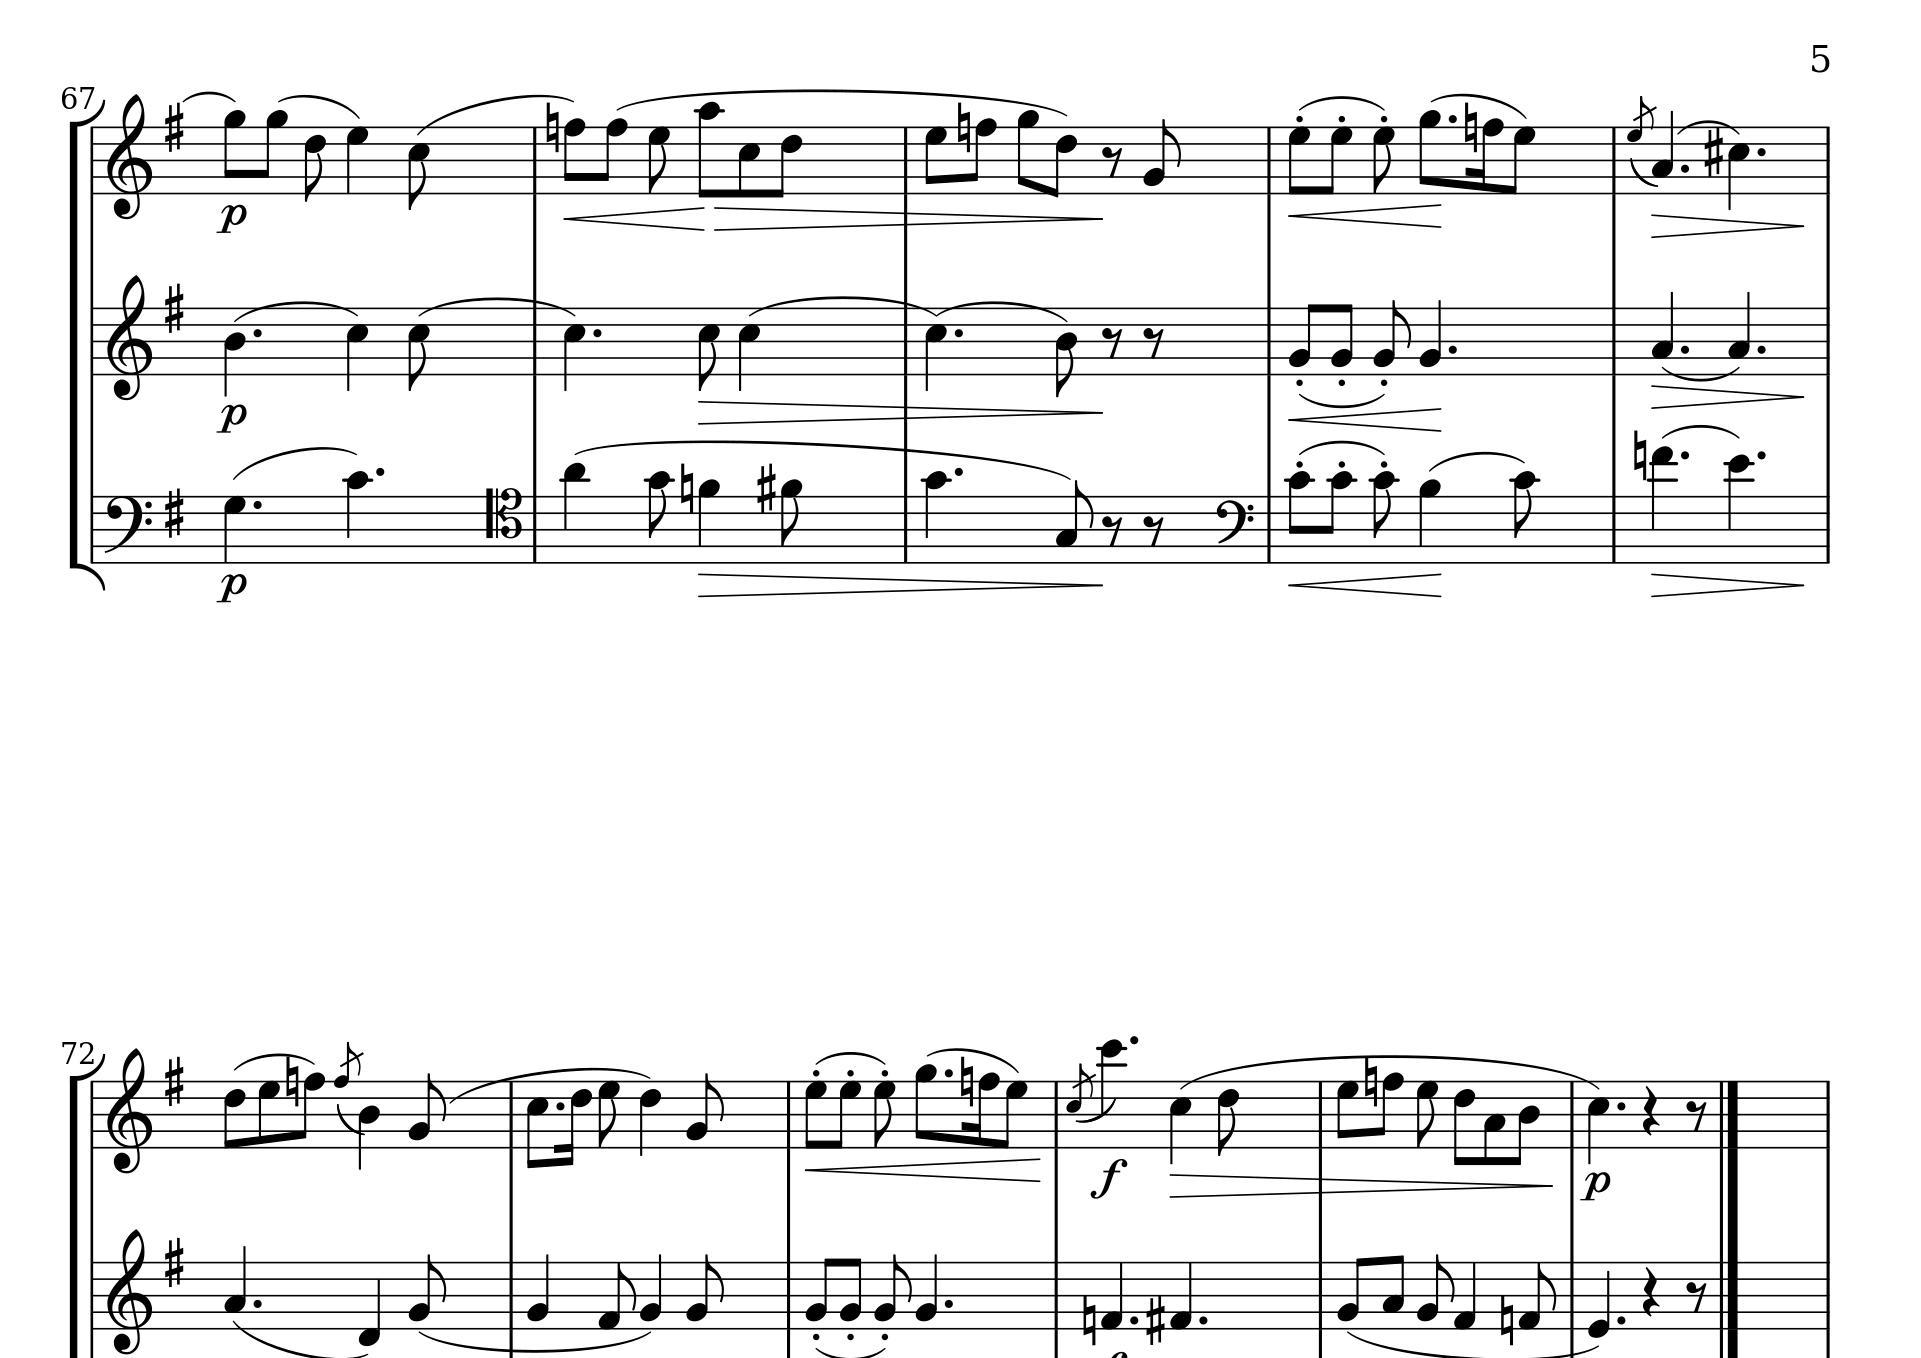16_6: (557, 1077, 592, 1167)
16_8: (963, 1068, 999, 1149), (1468, 118, 1504, 195)
2: (76, 1039, 96, 1064)
4_-1: (356, 1260, 384, 1349)
4_0: (1587, 1260, 1614, 1340)
4_1: (1101, 1260, 1126, 1332), (1168, 1260, 1193, 1332), (1454, 1260, 1479, 1332)
4_10: (922, 469, 951, 566), (342, 469, 370, 564)
4_11: (560, 460, 588, 564)
4_12: (1724, 453, 1755, 566)
4_13: (1648, 445, 1677, 567)
4_2: (525, 1252, 553, 1332), (639, 1251, 664, 1332), (916, 1251, 941, 1332), (1418, 297, 1443, 376)
4_3: (222, 1243, 248, 1332), (1726, 290, 1752, 376), (1651, 290, 1676, 378), (1652, 112, 1676, 195)
4_4: (222, 306, 247, 398), (357, 1080, 381, 1171)
4_5: (922, 306, 949, 392), (1726, 123, 1751, 212), (736, 306, 761, 394), (344, 306, 369, 392), (561, 306, 586, 392), (1586, 1079, 1611, 1165), (1168, 1077, 1192, 1165)
4_6: (638, 1077, 661, 1157)
4_7: (220, 494, 248, 564), (345, 125, 369, 195)
4_9: (697, 478, 722, 564), (1417, 478, 1442, 564)
5: (1809, 40, 1831, 73)
6: (60, 82, 78, 112)
7: (79, 82, 96, 110), (62, 1038, 76, 1064)
8_1: (1518, 1260, 1558, 1332), (597, 1260, 636, 1330)
8_10: (1321, 470, 1357, 564), (1368, 470, 1399, 564), (1285, 470, 1314, 564), (697, 100, 725, 198), (1511, 470, 1539, 564), (647, 469, 673, 564)
8_12: (1098, 1038, 1124, 1151)
8_2: (685, 1252, 725, 1332), (872, 1252, 911, 1332), (1142, 118, 1182, 195), (685, 1071, 725, 1149), (407, 1252, 447, 1329), (1371, 298, 1410, 376), (407, 1071, 445, 1149), (1415, 1252, 1454, 1330), (1336, 1255, 1367, 1332), (1288, 301, 1318, 375), (802, 1257, 833, 1330), (1329, 301, 1354, 376), (838, 1257, 863, 1332)
8_3: (1054, 478, 1094, 564), (1482, 1079, 1507, 1165), (1382, 1254, 1405, 1332)
8_4: (1511, 1079, 1542, 1165), (1054, 306, 1077, 398)
8_5: (525, 1079, 550, 1168), (406, 125, 431, 212), (406, 306, 431, 392), (697, 306, 722, 392), (736, 123, 761, 198)
8_6: (773, 123, 802, 198), (1452, 1079, 1477, 1167), (1048, 125, 1077, 198), (1216, 1079, 1240, 1158), (301, 125, 326, 201), (222, 1077, 247, 1152)
8_7: (1321, 125, 1354, 195), (830, 1079, 861, 1149), (998, 1077, 1027, 1149), (1507, 123, 1534, 195), (923, 123, 949, 195), (647, 123, 672, 195), (256, 1077, 281, 1149), (1335, 1077, 1360, 1149), (802, 1079, 827, 1149), (872, 1079, 897, 1149), (1288, 123, 1311, 195), (1371, 123, 1395, 195), (1415, 1079, 1439, 1149), (597, 1079, 620, 1148)
8_8: (1373, 1071, 1405, 1149), (597, 116, 628, 195), (294, 1070, 325, 1149), (967, 118, 997, 195), (561, 116, 586, 197)
8_9: (254, 109, 288, 195), (220, 107, 247, 195), (778, 478, 804, 564), (913, 1063, 939, 1149), (1417, 107, 1442, 197), (1016, 107, 1041, 195)
Acciaccature: (334, 1041, 363, 1145), (1627, 96, 1655, 194), (1069, 1061, 1094, 1146)
Bracke: (68, 100, 106, 586)
Crescendo_hairpin: (802, 1157, 1041, 1182), (564, 207, 704, 231)
Diminuendo_hairpin: (711, 206, 1105, 234), (700, 398, 1105, 423), (1168, 1171, 1551, 1198), (697, 573, 1105, 597)
Fclef: (101, 492, 154, 564), (1214, 495, 1254, 564)
Final_barline: (1712, 1079, 1742, 1148), (1712, 1260, 1742, 1329)
Gclef: (104, 93, 154, 220), (104, 1226, 154, 1354), (104, 273, 154, 400), (104, 1046, 153, 1174)
Natural: (1079, 1293, 1098, 1346), (678, 460, 695, 516), (957, 1052, 974, 1108), (954, 100, 972, 153), (1461, 100, 1479, 153), (1498, 1293, 1515, 1345), (544, 100, 560, 154), (1631, 428, 1648, 482), (284, 1054, 300, 1108), (1362, 1055, 1379, 1107)
Rests4: (1639, 1265, 1661, 1318), (1640, 1085, 1661, 1139)
Rests8: (1684, 1279, 1709, 1315), (1141, 323, 1166, 359), (1101, 143, 1124, 179), (1101, 323, 1124, 360), (1684, 1098, 1708, 1133), (1101, 513, 1124, 547), (1142, 513, 1166, 547)
Sharp: (162, 281, 187, 335), (162, 486, 187, 541), (162, 1235, 187, 1289), (162, 1055, 187, 1108), (1701, 125, 1724, 179), (163, 100, 187, 153), (754, 461, 776, 514), (1143, 1293, 1166, 1346)
Single_barline: (503, 1261, 520, 1342), (1260, 306, 1279, 375), (1817, 1261, 1836, 1329), (897, 126, 916, 193), (1817, 307, 1836, 373), (1818, 1082, 1837, 1146), (1818, 495, 1836, 563), (1818, 126, 1836, 193), (1605, 307, 1623, 373), (1048, 1262, 1066, 1329), (1562, 1262, 1580, 1329), (1261, 494, 1277, 563), (780, 1080, 797, 1149), (780, 1261, 797, 1330), (1606, 494, 1623, 561), (85, 1261, 101, 1329), (1261, 126, 1277, 193), (1606, 126, 1623, 193), (85, 307, 101, 373), (85, 495, 101, 561), (898, 495, 914, 561), (1048, 1082, 1064, 1148), (1313, 1262, 1329, 1329), (1564, 1085, 1580, 1149), (504, 1085, 520, 1149), (898, 310, 914, 373), (528, 126, 542, 194), (87, 126, 101, 193), (528, 310, 542, 376), (528, 495, 542, 561), (87, 1082, 101, 1148), (1314, 1082, 1329, 1148)
Slur: (1173, 1054, 1604, 1088), (614, 90, 1071, 115), (414, 93, 575, 135), (448, 1068, 647, 1102), (237, 1318, 367, 1358), (744, 295, 941, 319), (229, 445, 359, 481), (416, 295, 573, 315), (238, 298, 360, 320), (945, 301, 1066, 323), (276, 93, 365, 121), (1426, 450, 1526, 473), (923, 1048, 1020, 1071), (1430, 94, 1526, 118), (1296, 389, 1387, 409), (234, 1051, 316, 1070), (1298, 96, 1387, 112), (1298, 439, 1387, 456), (1659, 423, 1742, 439), (1664, 364, 1740, 381), (816, 1049, 886, 1066), (1671, 121, 1739, 137), (335, 1102, 365, 1138), (1629, 156, 1659, 188), (179, 90, 237, 104)
Tensor_Cclef: (484, 486, 523, 564)
dot: (1753, 341, 1770, 357), (589, 325, 604, 341), (951, 464, 966, 481), (250, 1295, 265, 1311), (1678, 339, 1692, 357), (1753, 144, 1768, 159), (1445, 341, 1459, 356), (1614, 1312, 1629, 1327), (1755, 447, 1768, 463), (373, 464, 387, 481), (1677, 162, 1692, 175), (1678, 447, 1692, 461), (251, 497, 265, 511), (1614, 1098, 1627, 1113), (952, 326, 966, 339), (1127, 1033, 1141, 1046), (942, 1066, 955, 1079), (553, 1099, 566, 1113), (1127, 1312, 1141, 1326), (1196, 1312, 1210, 1326), (251, 326, 263, 341), (942, 1296, 954, 1309), (1446, 112, 1458, 123)
f: (1088, 1157, 1129, 1199)
p: (1580, 1168, 1612, 1207), (215, 572, 248, 607), (215, 203, 248, 237), (216, 403, 248, 436)
